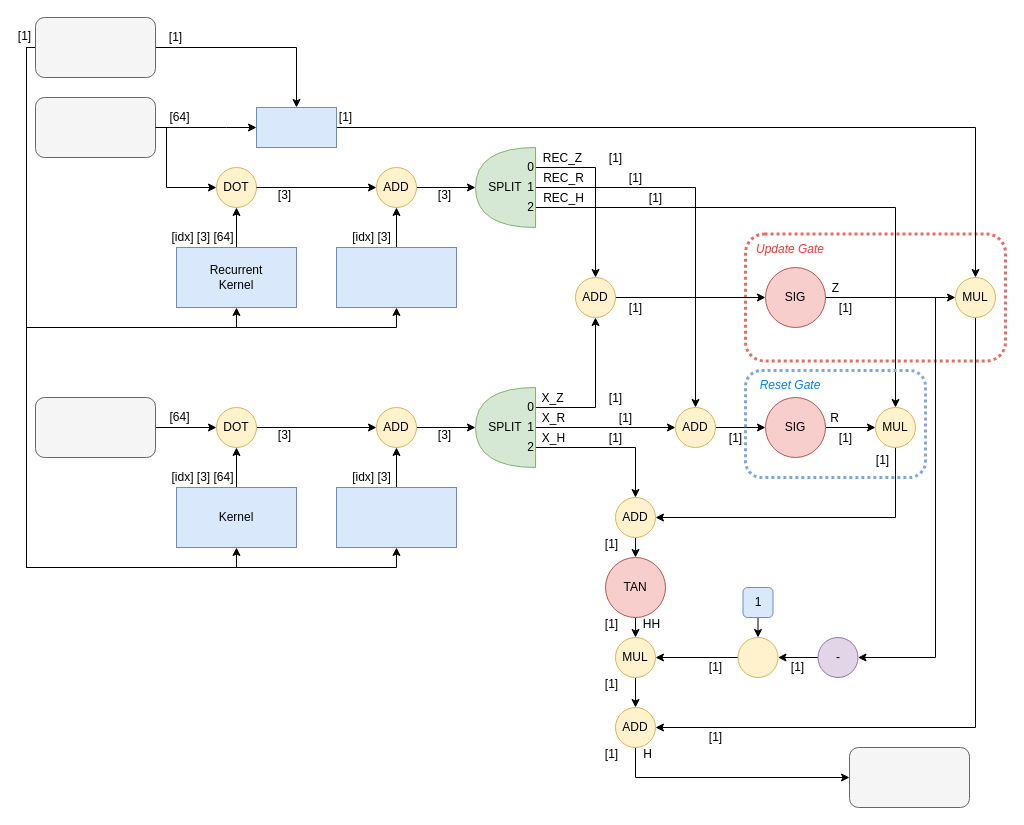
This 1024x825 diagram has some shape labels left out. Each missing label, with the box of its shape:
ADD (1 - Z): (737, 636, 778, 678)
Bias: (336, 486, 456, 548)
IDX (cell column index): (34, 16, 156, 78)
INPUT: (34, 396, 156, 458)
OUTPUT: (848, 746, 970, 808)
Recurrent Bias: (336, 246, 456, 308)
STATE: (34, 96, 156, 158)
this cell prev state: (256, 106, 336, 148)
